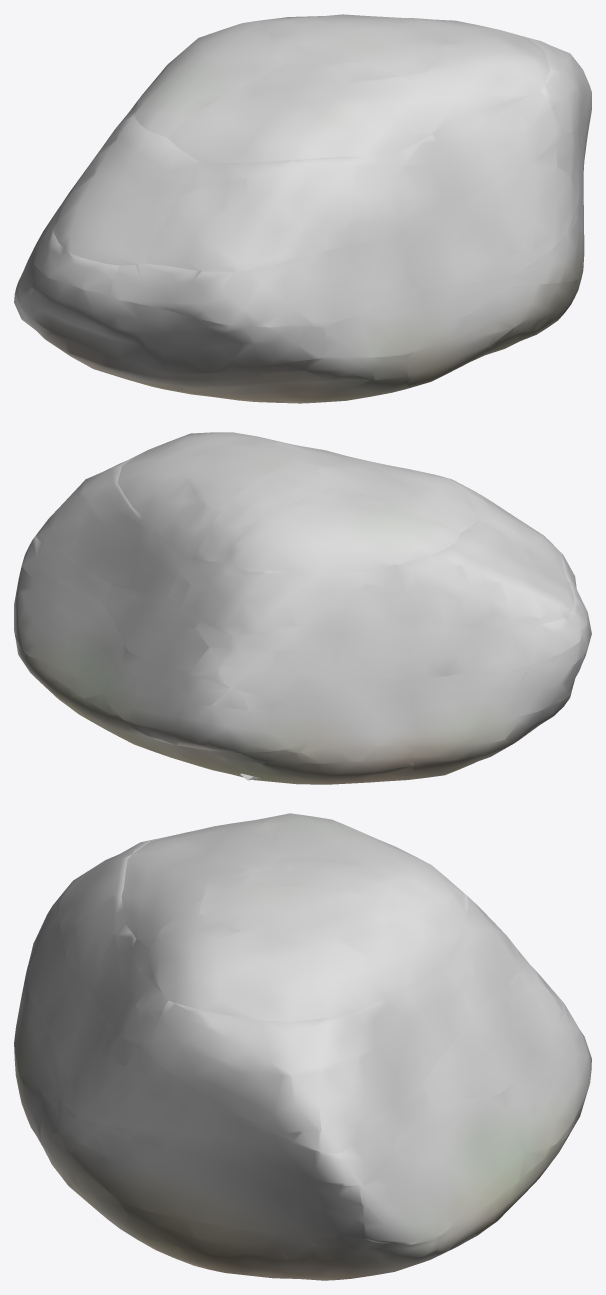
Rendered from coal_rock_v8.glb.
The picture shows the model from 3 angles, top to bottom: view 1: azimuth 30°, elevation 25°; view 2: azimuth 150°, elevation 25°; view 3: azimuth 270°, elevation 25°; orthographic projection. The views are drawn at different scales.
Visible parts, largest first — view 1: Chunk_23, Chunk_28, Chunk_17, Chunk_10, Chunk_18, Chunk_29, Chunk_22, Chunk_24, Chunk_27, Chunk_04, Chunk_05, Chunk_11 (+5 smaller); view 2: Chunk_15, Chunk_22, Chunk_08, Chunk_27, Chunk_29, Chunk_21, Chunk_25, Chunk_09, Chunk_07, Chunk_02, Chunk_14, Chunk_28 (+7 smaller); view 3: Chunk_25, Chunk_29, Chunk_12, Chunk_07, Chunk_18, Chunk_00, Chunk_28, Chunk_14, Chunk_19, Chunk_08, Chunk_30, Chunk_27 (+7 smaller).
Part boxes in pixels (x1,y1,x2,y2): Chunk_23: (145,154,421,271); Chunk_28: (167,62,455,162); Chunk_17: (110,235,413,327); Chunk_10: (16,251,327,373); Chunk_18: (403,129,581,289); Chunk_29: (309,14,550,116); Chunk_22: (52,93,198,265); Chunk_24: (395,90,562,217); Chunk_27: (134,21,283,137); Chunk_04: (168,355,407,403); Chunk_05: (406,279,579,388); Chunk_11: (324,278,511,357); Chunk_15: (216,615,464,709); Chunk_22: (364,521,573,628); Chunk_08: (102,651,334,752); Chunk_27: (224,488,460,572); Chunk_29: (117,432,301,558); Chunk_21: (168,559,365,635); Chunk_25: (36,453,184,596); Chunk_09: (330,672,516,739); Chunk_07: (14,564,128,691); Chunk_02: (172,732,413,784); Chunk_14: (100,586,232,680); Chunk_28: (300,446,477,532); Chunk_25: (149,965,473,1153); Chunk_29: (147,885,451,1021); Chunk_12: (55,1100,365,1239); Chunk_07: (359,1094,522,1244); Chunk_18: (48,980,186,1134); Chunk_00: (123,1203,438,1280); Chunk_28: (121,819,287,946); Chunk_14: (423,963,561,1108); Chunk_19: (186,1083,430,1186); Chunk_08: (500,1001,591,1153); Chunk_30: (237,856,462,951); Chunk_27: (258,813,465,922).
Size of the model in its own units: 2.8 by 1.25 by 2.16.
